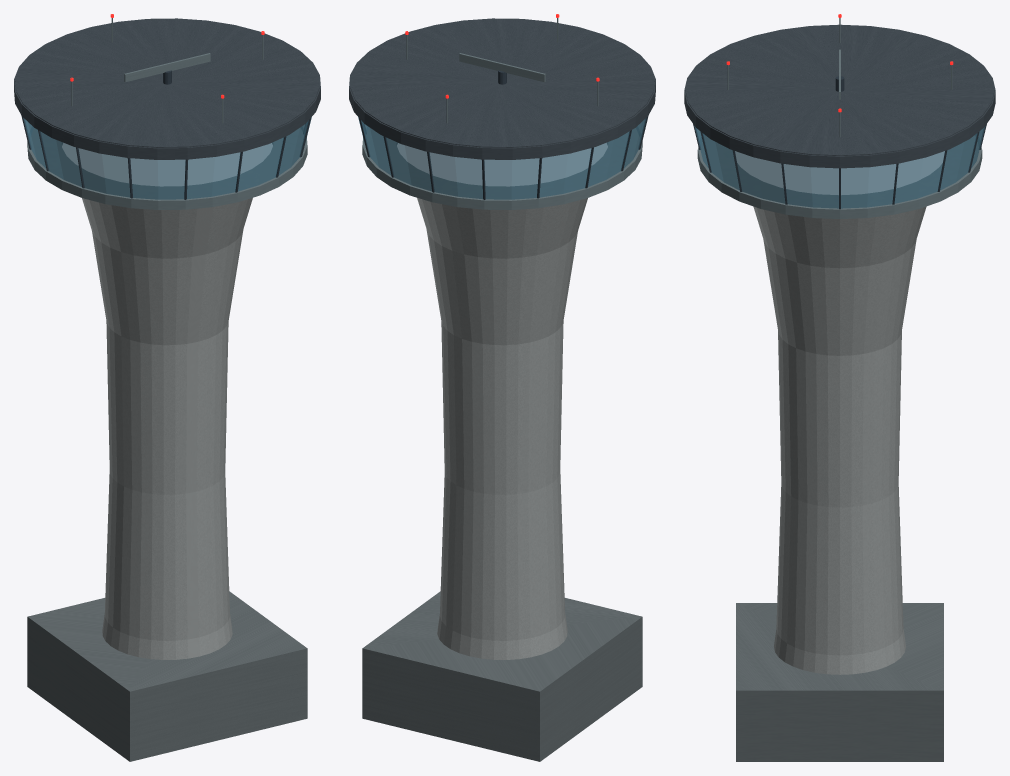
File: AIR04_hlod.glb
The picture shows the model from 3 angles, left to right: view 1: azimuth 30°, elevation 25°; view 2: azimuth 150°, elevation 25°; view 3: azimuth 270°, elevation 25°; orthographic projection.
Parts seen in each view (by area): view 1: Structure__reinforced_concrete, Roof__roof_membrane, Structure__concrete_dark, Facade__glass, Structure__steel_highlight, Roof__steel_highlight, Facade__painted_steel; view 2: Structure__reinforced_concrete, Roof__roof_membrane, Structure__concrete_dark, Facade__glass, Structure__steel_highlight, Roof__steel_highlight, Facade__painted_steel; view 3: Structure__reinforced_concrete, Roof__roof_membrane, Structure__concrete_dark, Facade__glass, Structure__steel_highlight, Facade__painted_steel.
Boxes of the visible parts, bbox=[...] form: Structure__reinforced_concrete: bbox=[82, 198, 252, 659]; Roof__roof_membrane: bbox=[14, 18, 320, 159]; Structure__concrete_dark: bbox=[27, 591, 307, 761]; Facade__glass: bbox=[23, 117, 311, 199]; Structure__steel_highlight: bbox=[27, 128, 307, 209]; Roof__steel_highlight: bbox=[71, 18, 263, 123]; Facade__painted_steel: bbox=[21, 115, 310, 199]; Structure__reinforced_concrete: bbox=[417, 198, 587, 659]; Roof__roof_membrane: bbox=[349, 18, 655, 159]; Structure__concrete_dark: bbox=[362, 591, 642, 761]; Facade__glass: bbox=[358, 117, 646, 199]; Structure__steel_highlight: bbox=[362, 128, 642, 209]; Roof__steel_highlight: bbox=[406, 18, 598, 123]; Facade__painted_steel: bbox=[359, 115, 648, 199]; Structure__reinforced_concrete: bbox=[753, 206, 926, 674]; Roof__roof_membrane: bbox=[684, 24, 995, 168]; Structure__concrete_dark: bbox=[736, 603, 943, 761]; Facade__glass: bbox=[694, 126, 985, 208]; Structure__steel_highlight: bbox=[697, 135, 982, 218]; Facade__painted_steel: bbox=[693, 124, 986, 209].
Size of the model in its own units: 24 by 55.76 by 24.
Materials: 7 (7 with a texture image).
